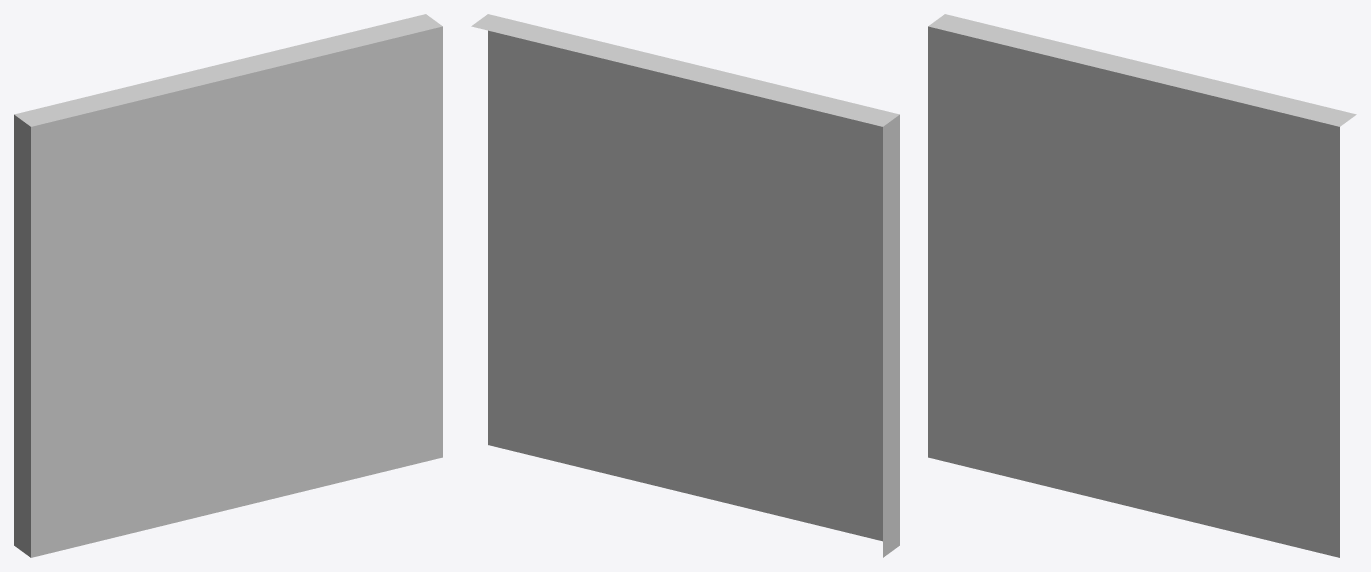
File: M_Wall350InWhite80.fbx
3 renders of one model, left to right at view 1: azimuth 30°, elevation 25°; view 2: azimuth 150°, elevation 25°; view 3: azimuth 330°, elevation 25°, orthographic.
Parts seen in each view (by area): view 1: M_Wall350White80; view 2: M_Wall350White80; view 3: M_Wall350White80.
Part boxes in pixels (<box>): M_Wall350White80: <box>14,14,442,557</box>; M_Wall350White80: <box>471,14,899,557</box>; M_Wall350White80: <box>928,14,1356,557</box>.
Size of the model in its own units: 350 by 25 by 350.
